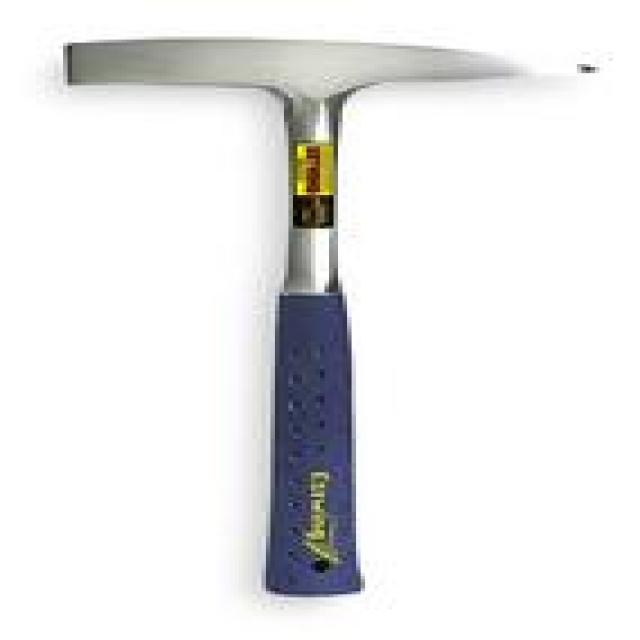hammer: (55, 32, 607, 604)
